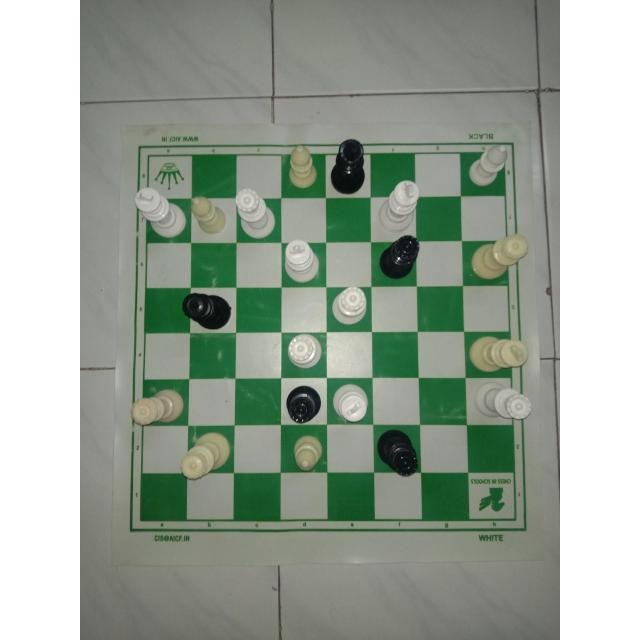black-king: (330, 132, 370, 198)
black-queen: (375, 425, 423, 481), (377, 234, 424, 282), (182, 290, 237, 329), (278, 380, 322, 424)
white-bishop: (282, 138, 324, 191), (468, 143, 514, 189), (189, 194, 230, 238), (289, 432, 325, 474)
white-king: (130, 182, 188, 240), (376, 179, 424, 233), (466, 333, 530, 372), (333, 380, 375, 424), (283, 238, 323, 282)
white-queen: (176, 429, 234, 485), (468, 230, 530, 282), (472, 379, 534, 426), (230, 184, 274, 238), (128, 388, 184, 426), (327, 282, 371, 329), (283, 332, 323, 376)
